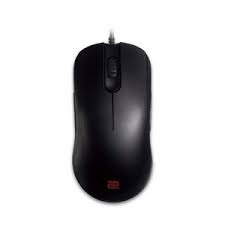mouse: (70, 35, 161, 209)
